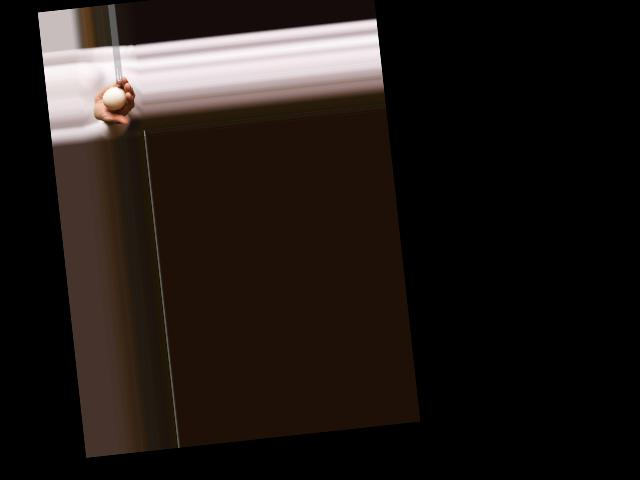egg: (101, 85, 127, 111)
